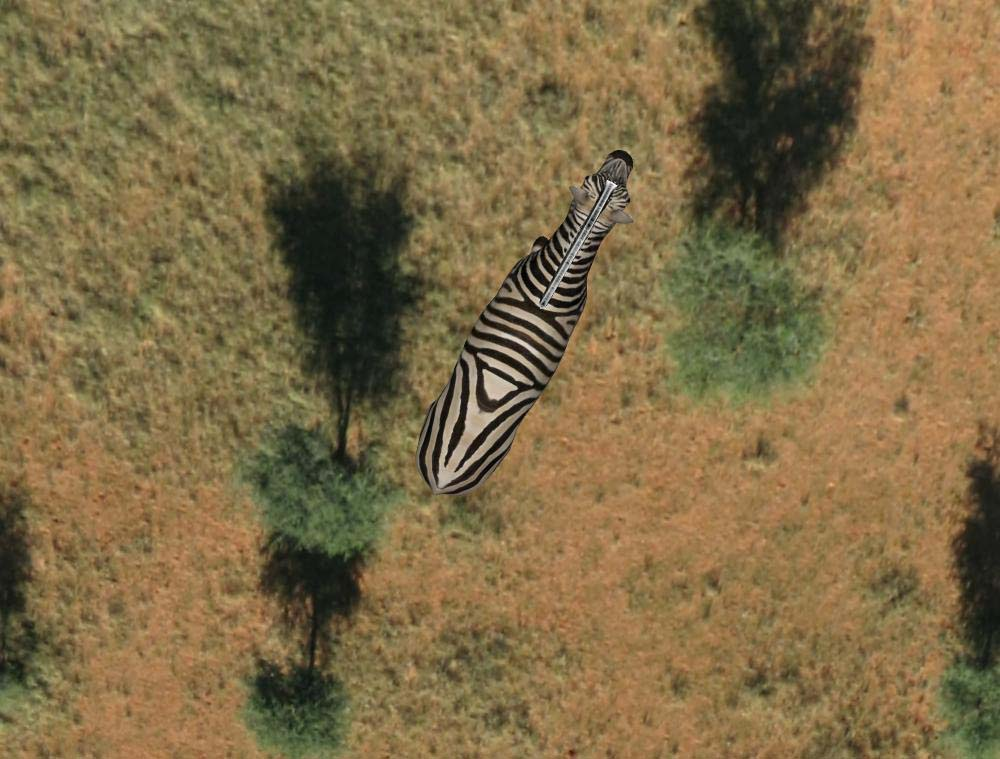zebra: (421, 146, 636, 508)
